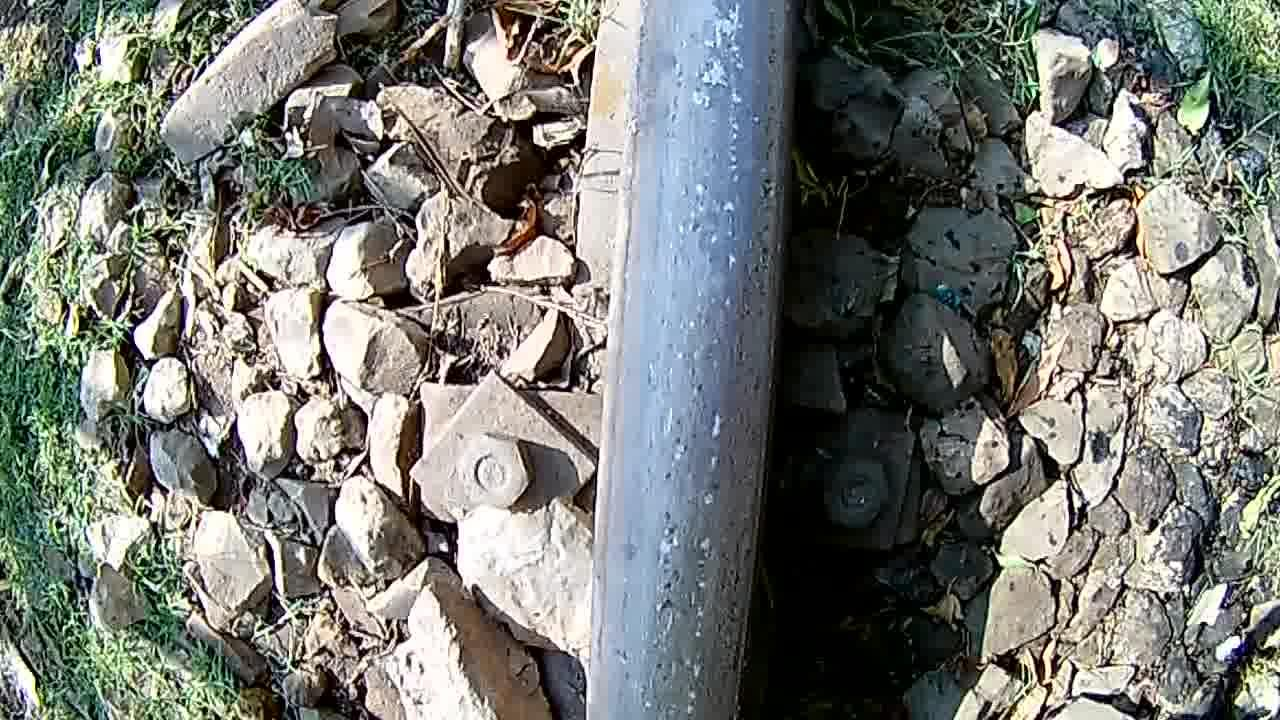clip_missing: (593, 3, 804, 720)
